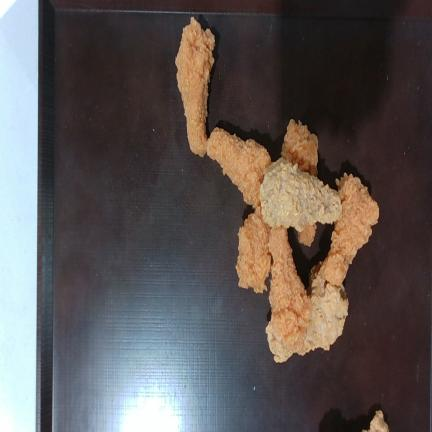chicken: (320, 173, 379, 284), (266, 227, 312, 361), (260, 158, 342, 231), (175, 17, 215, 156), (207, 128, 271, 208), (295, 270, 348, 355), (236, 207, 270, 293)
